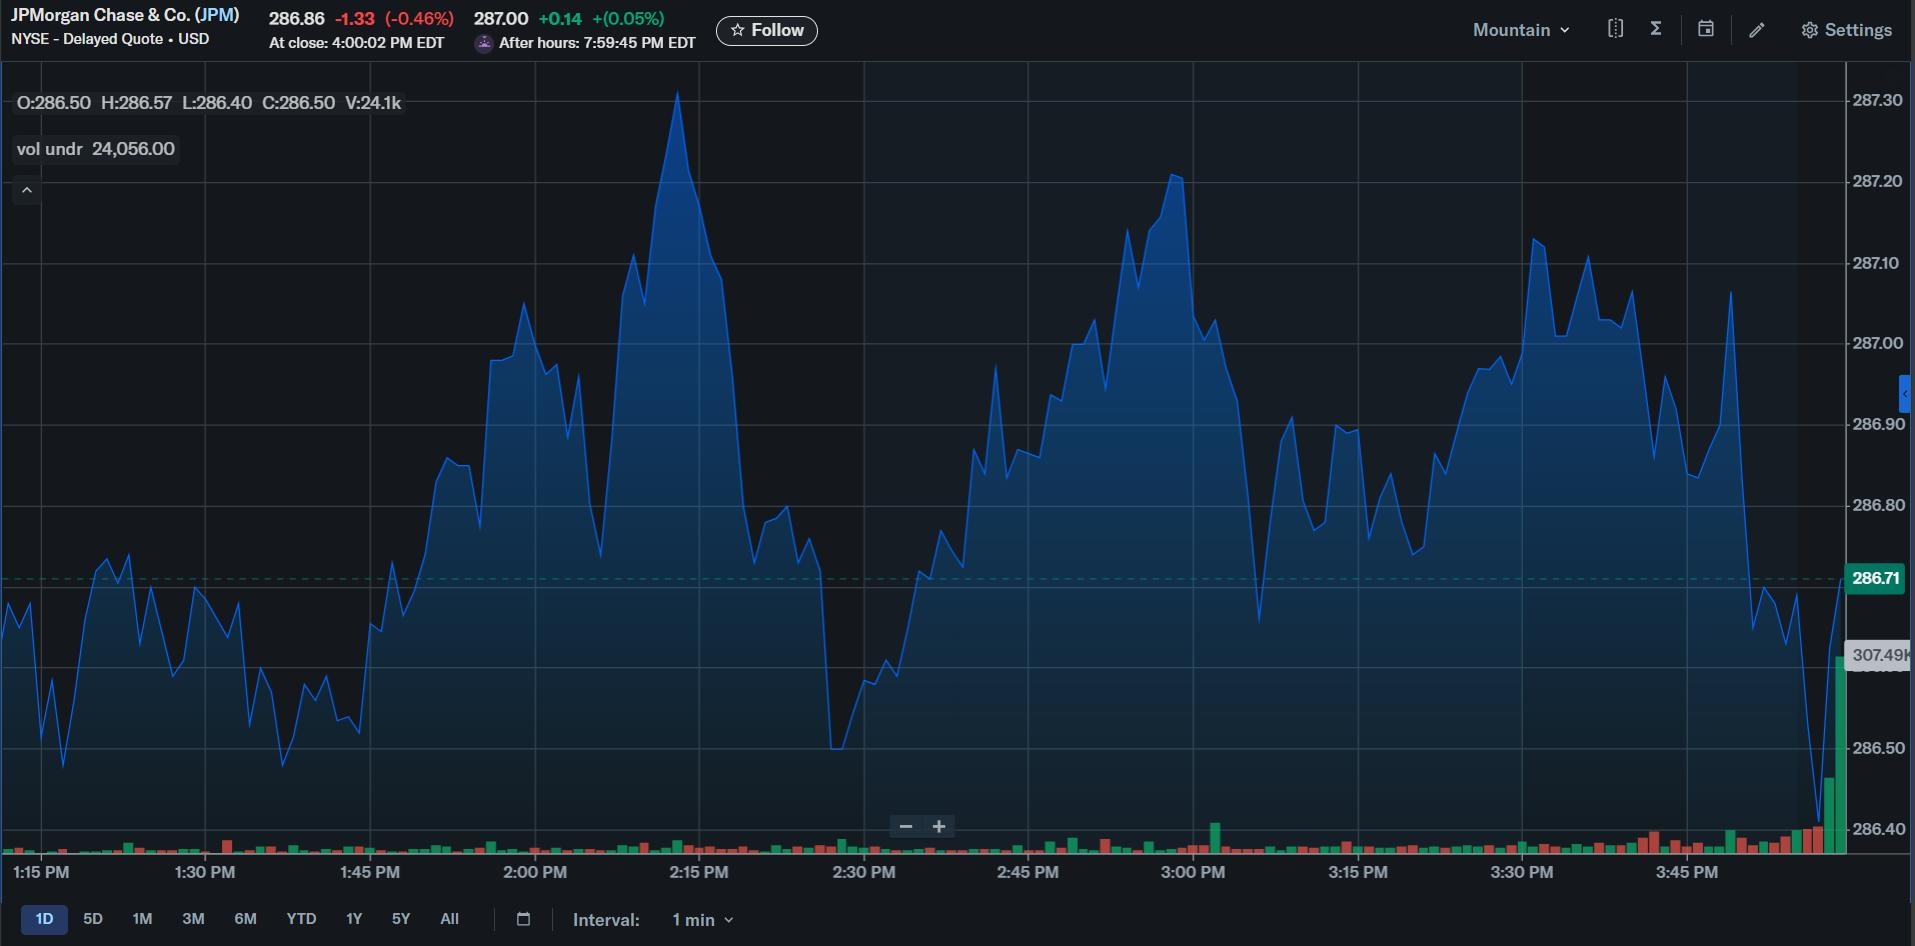Downtrend: (666, 78, 783, 585), (1168, 156, 1288, 646), (1726, 271, 1784, 651), (1619, 271, 1672, 471)
Sideways: (12, 553, 272, 708)
Uptrend: (819, 350, 1015, 771), (1384, 320, 1496, 576), (434, 309, 525, 559)
